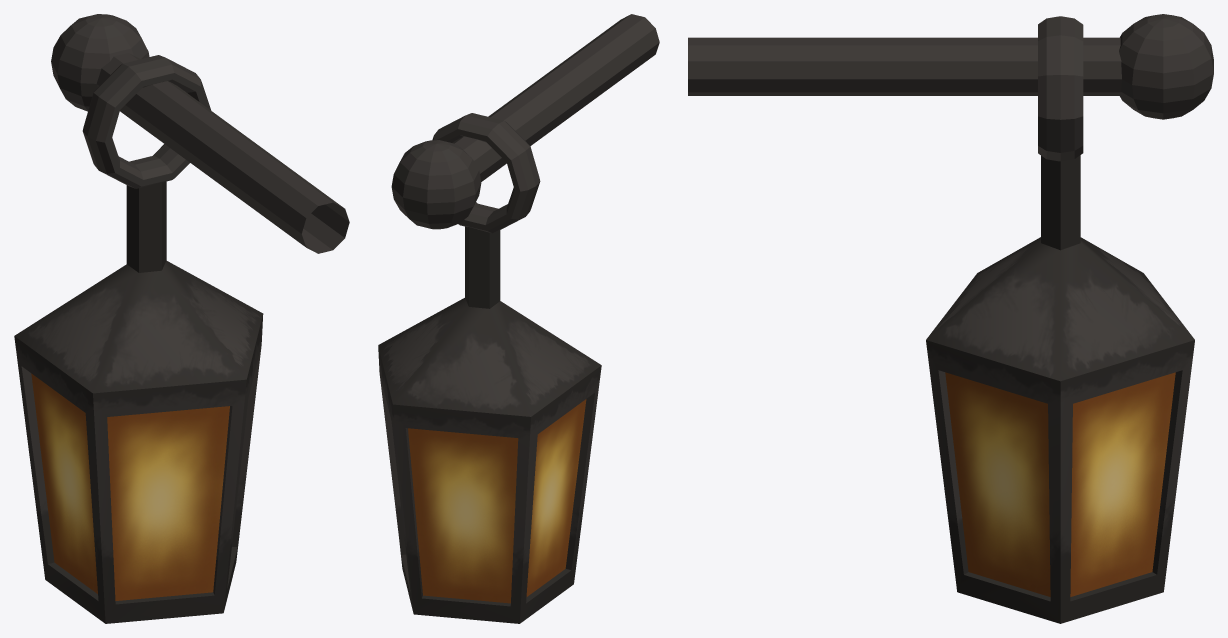
Rendered from Lantern.fbx.
3 renders of one model, left to right at view 1: azimuth 30°, elevation 25°; view 2: azimuth 150°, elevation 25°; view 3: azimuth 270°, elevation 25°, orthographic. The views are drawn at different scales.
Visible parts, largest first — view 1: Lantern; view 2: Lantern; view 3: Lantern.
Boxes of the visible parts, bbox=[...] form: Lantern: bbox=[14, 14, 349, 623]; Lantern: bbox=[378, 14, 659, 623]; Lantern: bbox=[688, 14, 1213, 623].
Bounding box in the file's own units: 0.3495 × 0.8444 × 0.7178.
